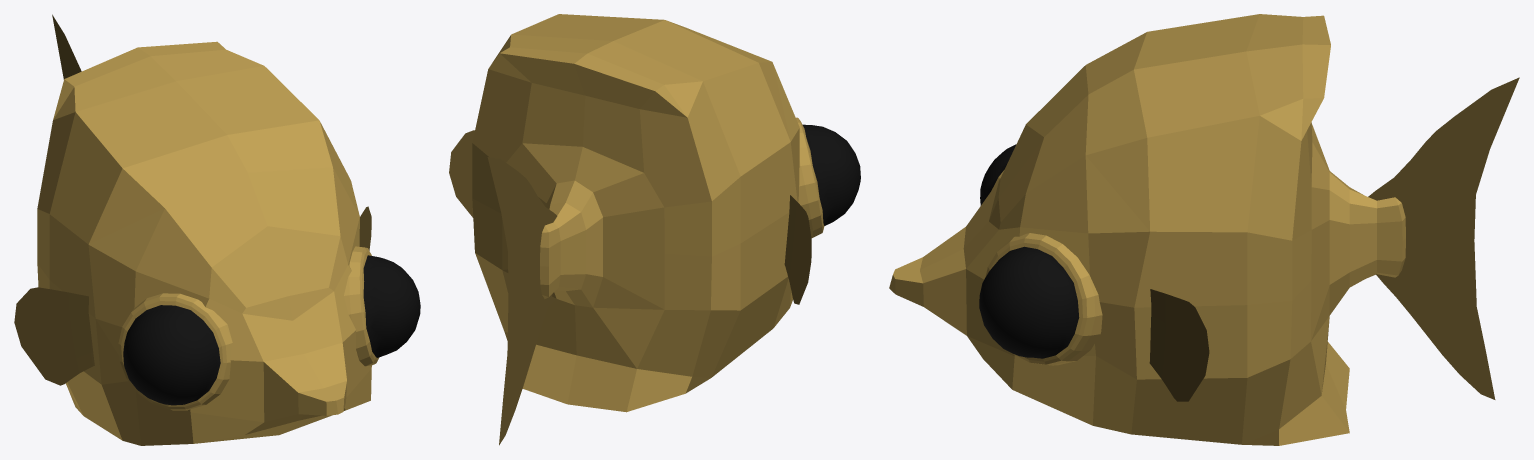
File: Yellow Tang.glb
3 renders of one model, left to right at view 1: azimuth 30°, elevation 25°; view 2: azimuth 150°, elevation 25°; view 3: azimuth 270°, elevation 25°, orthographic. The views are drawn at different scales.
Visible parts, largest first — view 1: Yellow Tang; view 2: Yellow Tang; view 3: Yellow Tang.
Boxes of the visible parts, <box> form: Yellow Tang: <box>14,14,420,445</box>; Yellow Tang: <box>449,14,860,445</box>; Yellow Tang: <box>889,14,1519,445</box>.
Bounding box in the file's own units: 0.3566 × 0.3162 × 0.4946.
